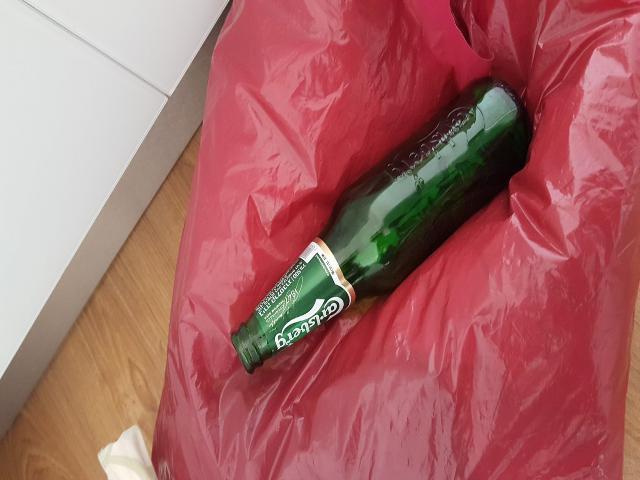beer: (231, 80, 531, 374)
